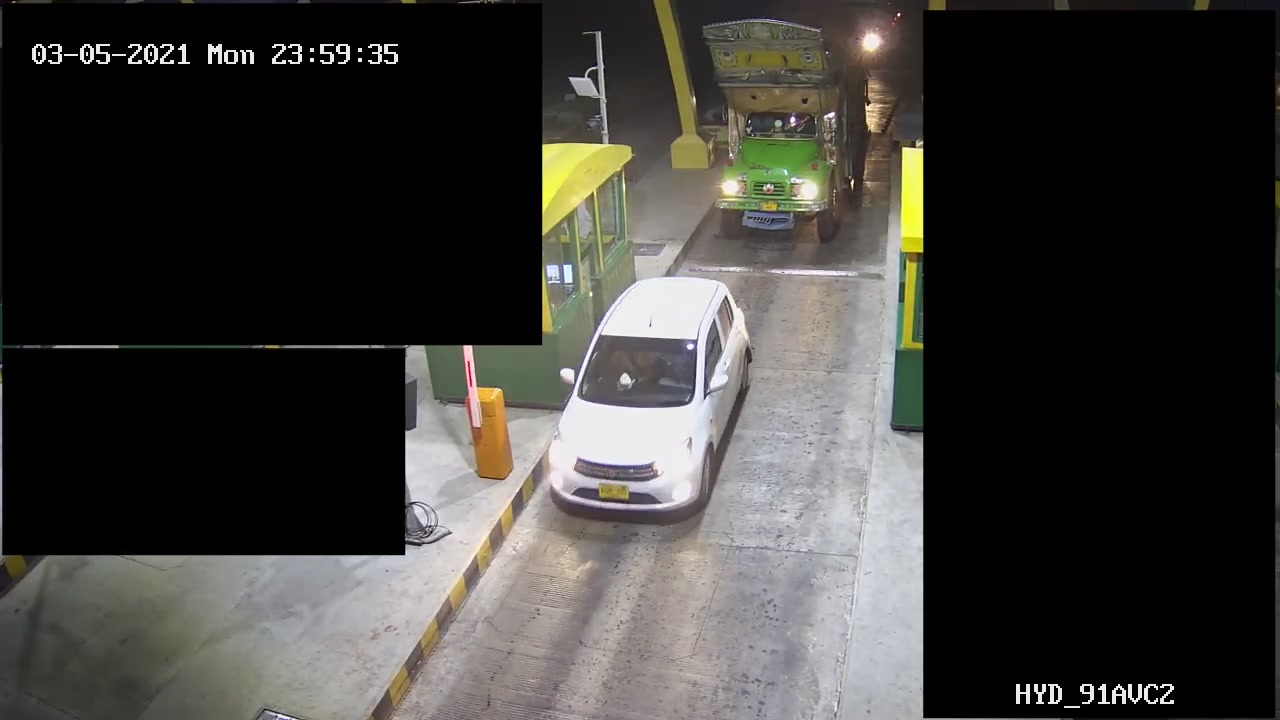F1: (527, 270, 768, 523)
